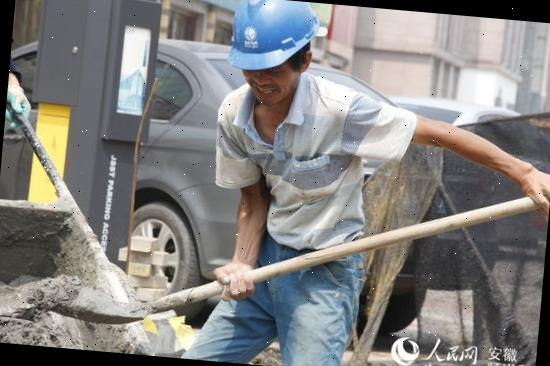helmet: (226, 0, 321, 77)
no_wear: (206, 88, 384, 255)
